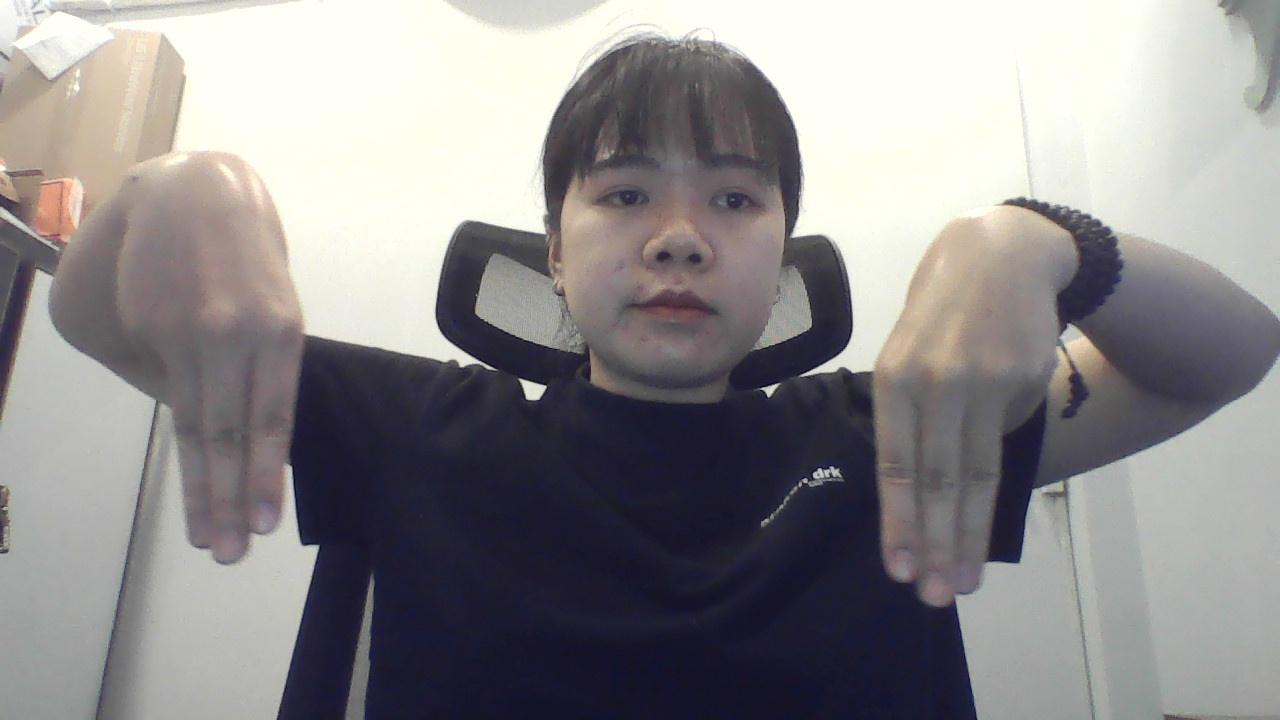M: (117, 144, 305, 572), (870, 211, 1068, 610)
